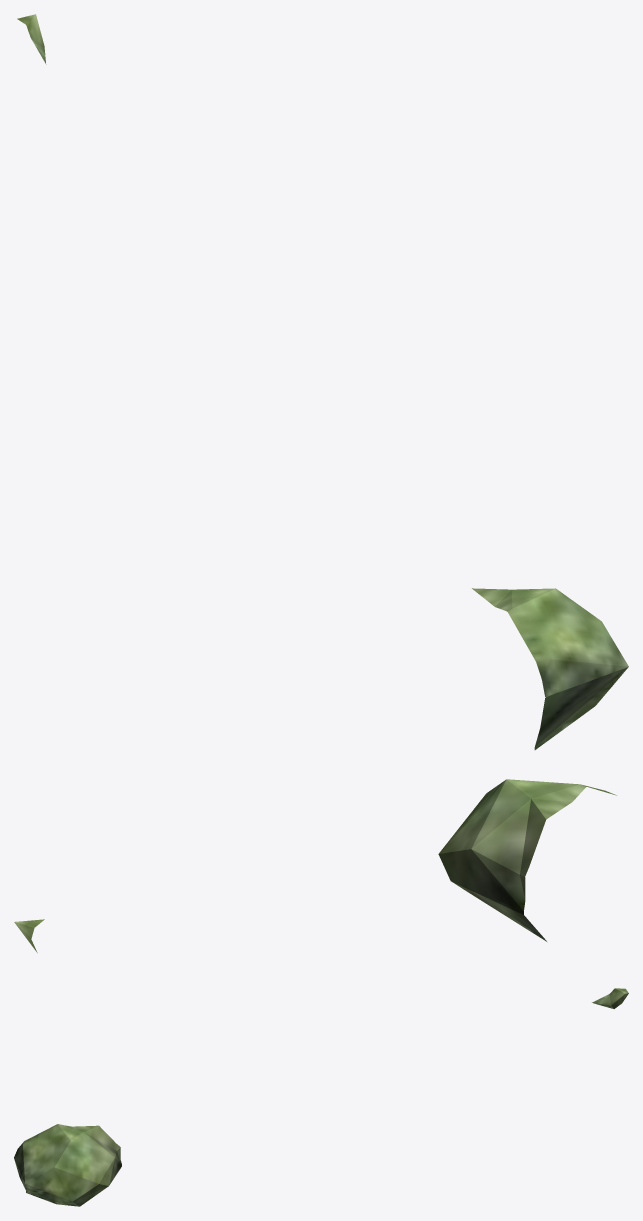
The picture shows the model from 3 angles, top to bottom: view 1: azimuth 30°, elevation 25°; view 2: azimuth 150°, elevation 25°; view 3: azimuth 270°, elevation 25°; orthographic projection. The views are drawn at different scales.
Bounding box in the file's own units: 2.08 × 6.9 × 18.41.
Materials: 1 (1 with a texture image).
